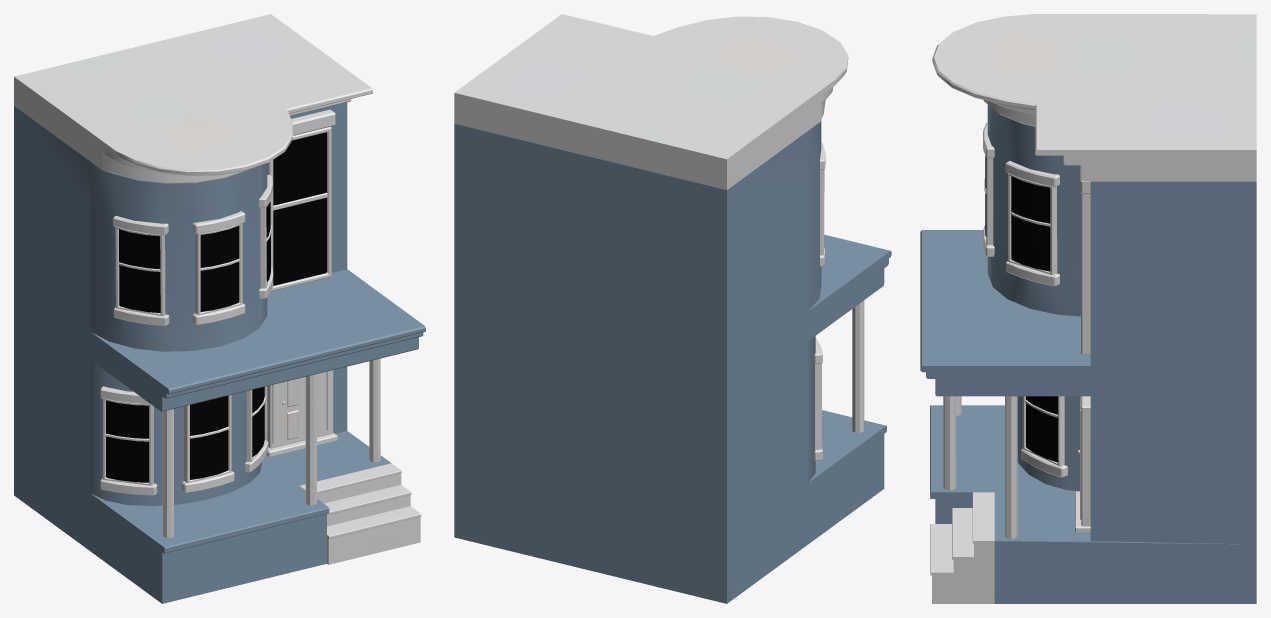
Rendered from DarrenHouse1_Var.fbx.
3 views of the same model, side by side, from view 1: azimuth 30°, elevation 25°; view 2: azimuth 150°, elevation 25°; view 3: azimuth 270°, elevation 25° (orthographic). The views are drawn at different scales.
Parts seen in each view (by area): view 1: polySurface34; view 2: polySurface34; view 3: polySurface34.
Boxes of the visible parts, left/top/right/bottom form: polySurface34: left=14, top=14, right=425, bottom=603; polySurface34: left=454, top=14, right=891, bottom=603; polySurface34: left=920, top=14, right=1256, bottom=603.
Size of the model in its own units: 5.03 by 7.8 by 5.23.
